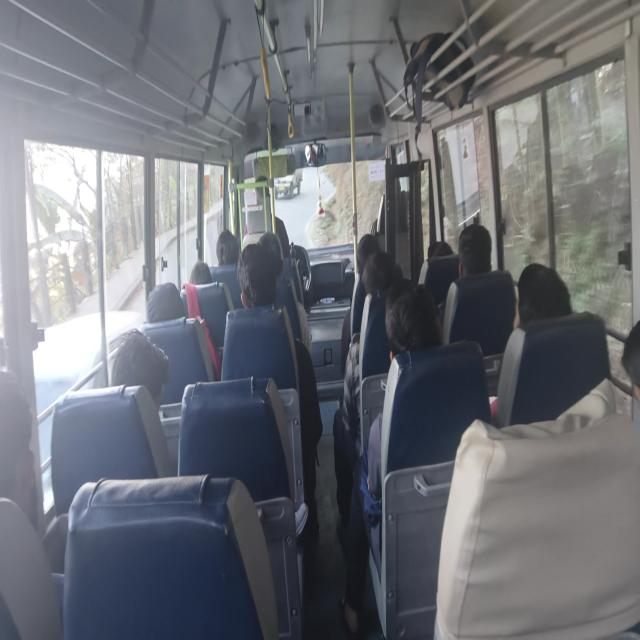person: (0, 389, 59, 628), (94, 341, 165, 407), (386, 285, 436, 372), (515, 262, 560, 336), (464, 214, 501, 285), (612, 307, 640, 395), (232, 250, 278, 299), (134, 292, 179, 332), (371, 268, 409, 313), (347, 232, 382, 277), (259, 236, 290, 273), (438, 236, 458, 271), (185, 254, 210, 282), (212, 234, 236, 258)
